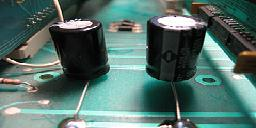Electrolytic Capacitor: (143, 9, 209, 94), (48, 14, 118, 91)
